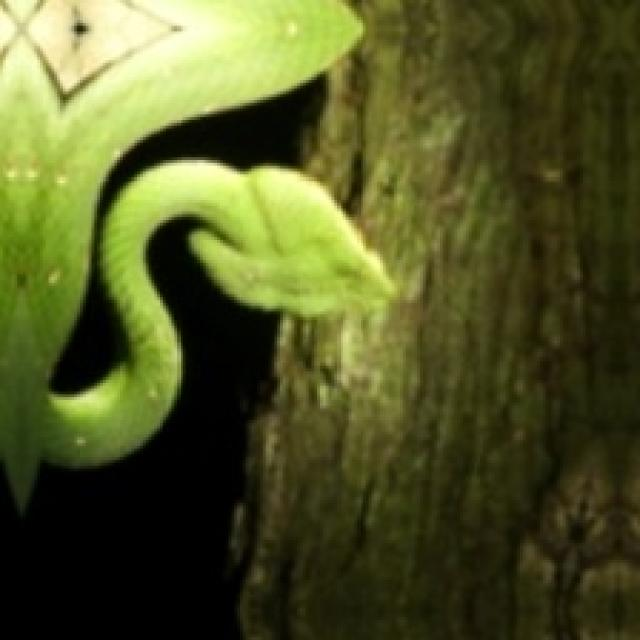north ph temple pitviper: (0, 0, 389, 506)
